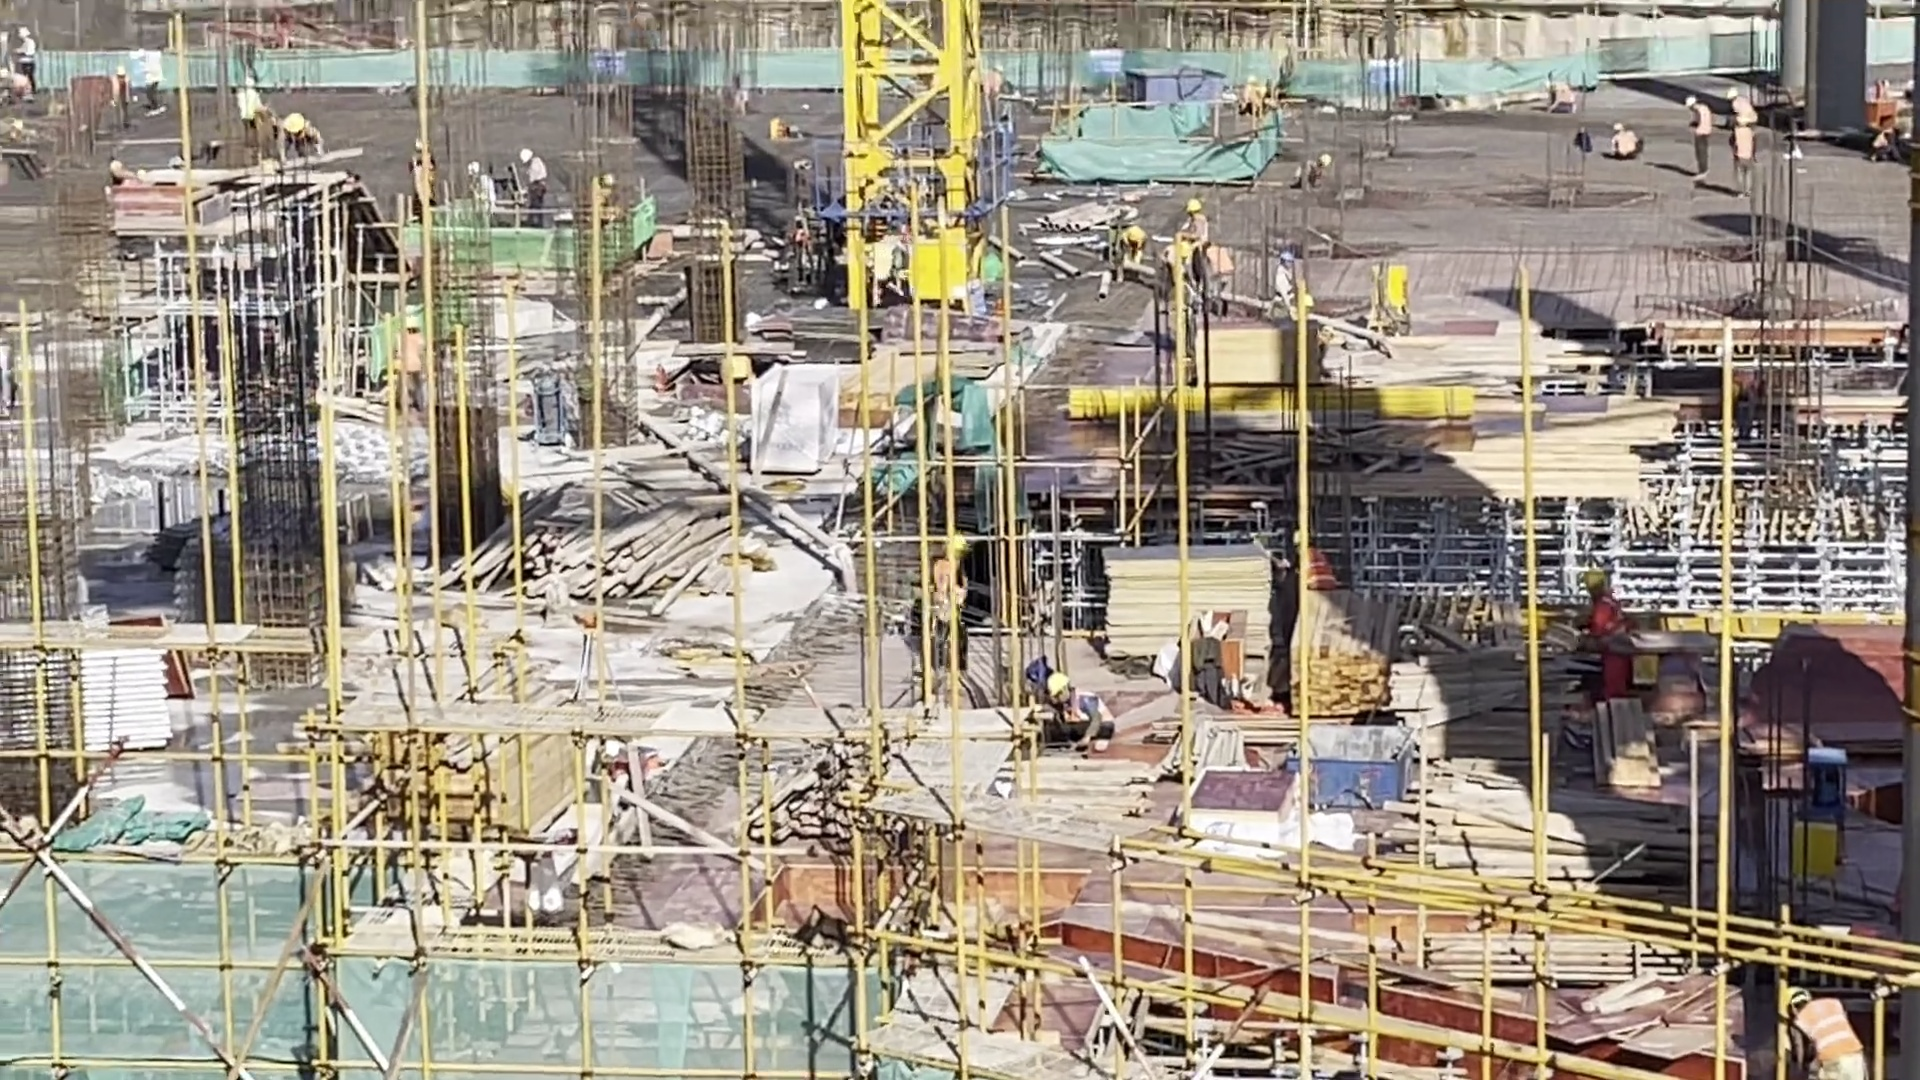board: (1099, 551, 1333, 652), (1189, 326, 1306, 391)
cutter: (683, 324, 824, 394)
ebox: (909, 232, 969, 277), (1778, 814, 1816, 882), (1361, 257, 1404, 307)
helmet: (1783, 984, 1811, 1015), (1050, 679, 1079, 701), (941, 535, 970, 556), (1129, 225, 1150, 246), (1292, 526, 1314, 543), (1183, 197, 1206, 211), (1591, 574, 1619, 586), (1182, 234, 1194, 255), (1278, 252, 1291, 268), (1324, 153, 1334, 173), (466, 159, 479, 176), (993, 62, 1009, 74), (1548, 67, 1561, 81), (606, 172, 618, 186), (1897, 115, 1908, 131), (1738, 107, 1747, 123), (514, 149, 533, 157), (1610, 121, 1623, 132), (244, 75, 254, 89), (1684, 90, 1692, 107), (1725, 86, 1735, 97), (1246, 72, 1256, 86), (296, 126, 309, 136), (19, 29, 30, 37), (414, 141, 427, 148), (137, 50, 145, 60), (120, 67, 124, 77)
hopper: (1303, 714, 1428, 821), (1127, 62, 1225, 103)
person: (1774, 979, 1873, 1080), (1577, 565, 1646, 704), (1039, 668, 1135, 765), (932, 516, 988, 665), (1267, 523, 1342, 595), (1268, 244, 1323, 340), (973, 55, 1025, 136), (412, 131, 457, 205), (1231, 71, 1284, 133), (275, 106, 335, 158), (462, 165, 507, 234), (112, 66, 153, 139), (521, 138, 555, 223), (1727, 117, 1763, 194), (10, 14, 45, 94), (1537, 63, 1588, 117), (1685, 95, 1714, 184), (1205, 234, 1240, 304), (1116, 222, 1152, 283), (1291, 135, 1330, 191), (1870, 113, 1901, 176), (1729, 86, 1769, 132), (1607, 121, 1646, 168), (143, 41, 166, 112), (1169, 241, 1195, 287), (592, 164, 619, 205), (1189, 192, 1210, 241)
vest: (1806, 1001, 1855, 1080), (935, 567, 972, 631), (1598, 593, 1636, 656), (1077, 692, 1132, 732), (1298, 550, 1336, 597), (1240, 87, 1281, 123), (1733, 124, 1754, 172), (237, 86, 263, 122), (994, 87, 1016, 124), (421, 151, 437, 196), (147, 50, 166, 86), (1691, 111, 1712, 142), (475, 177, 493, 212), (22, 30, 37, 72), (115, 72, 129, 115), (1215, 246, 1236, 275), (1277, 263, 1295, 296), (1737, 102, 1763, 124), (296, 122, 317, 150), (1156, 246, 1185, 265), (1614, 132, 1637, 156), (1190, 209, 1210, 229), (1117, 240, 1138, 260), (1553, 87, 1572, 108), (592, 180, 610, 199), (1303, 164, 1320, 183), (531, 158, 540, 185)
wood: (461, 469, 681, 629), (411, 684, 611, 831), (1441, 776, 1716, 871), (1410, 646, 1546, 759), (1282, 605, 1401, 705)
